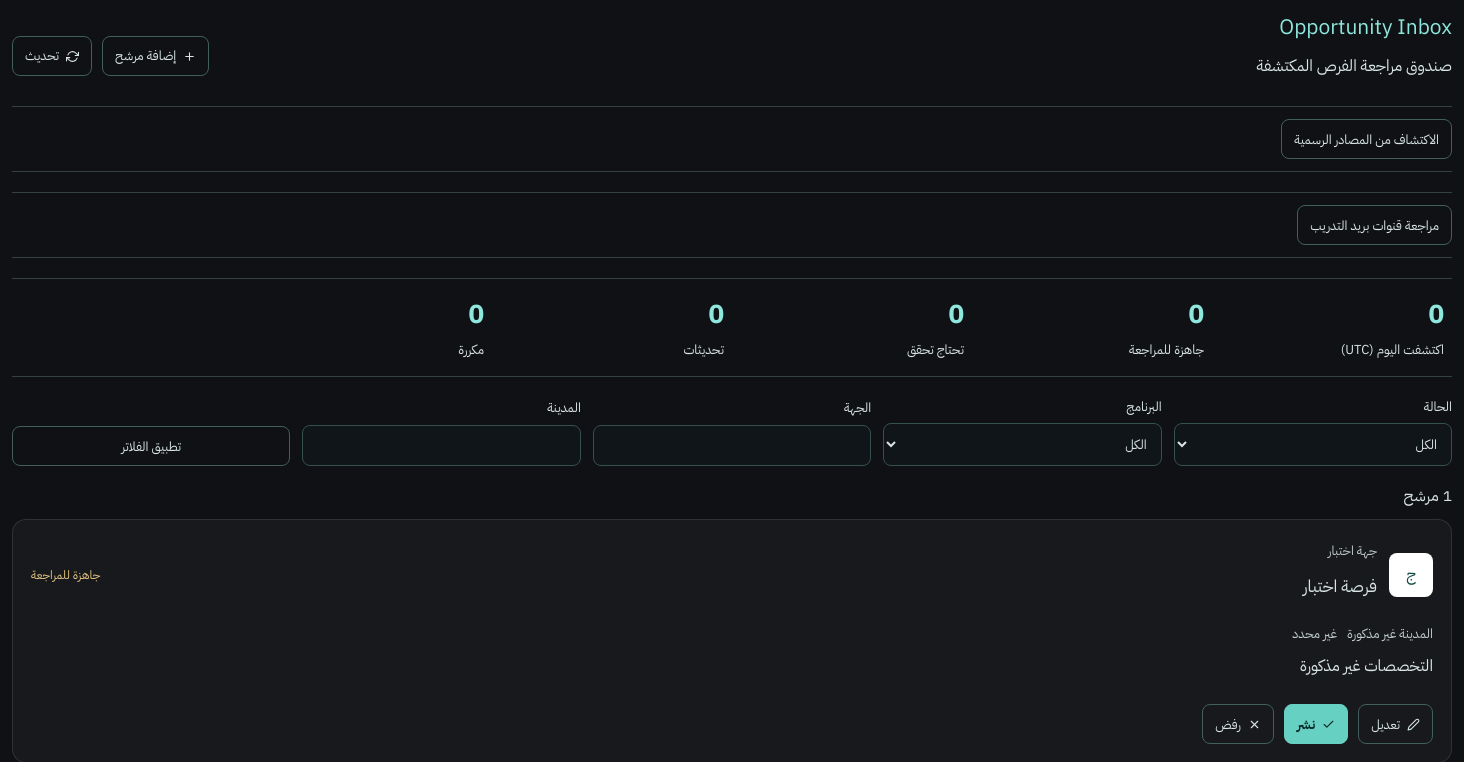
Test case: failed publication shows error, not success
Check: the button "فرصة اختبار" is shown, box [1303,567,1377,607]
Step 1. Click the button "نشر" → (1316, 724), box [1284,704,1348,744]
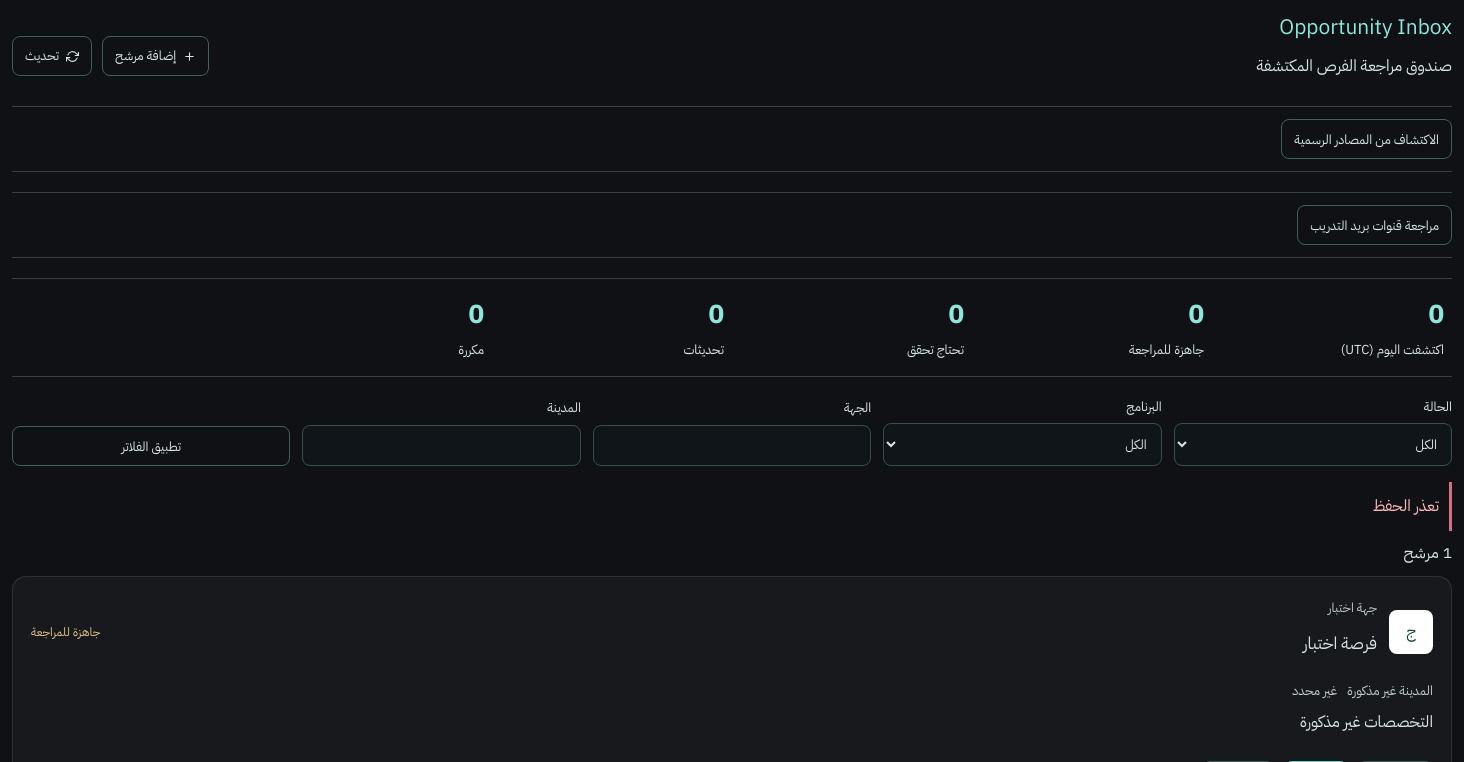
Check: the message reads "تعذر الحفظ", box [1373,494,1439,518]
